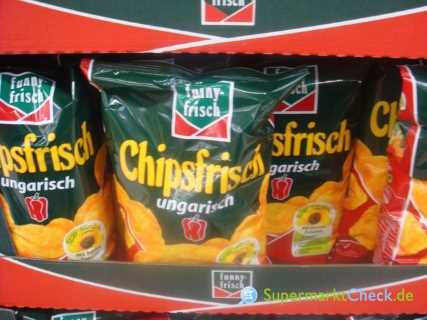chipsfrisch: (102, 53, 278, 265), (1, 64, 104, 264), (271, 65, 367, 264)
